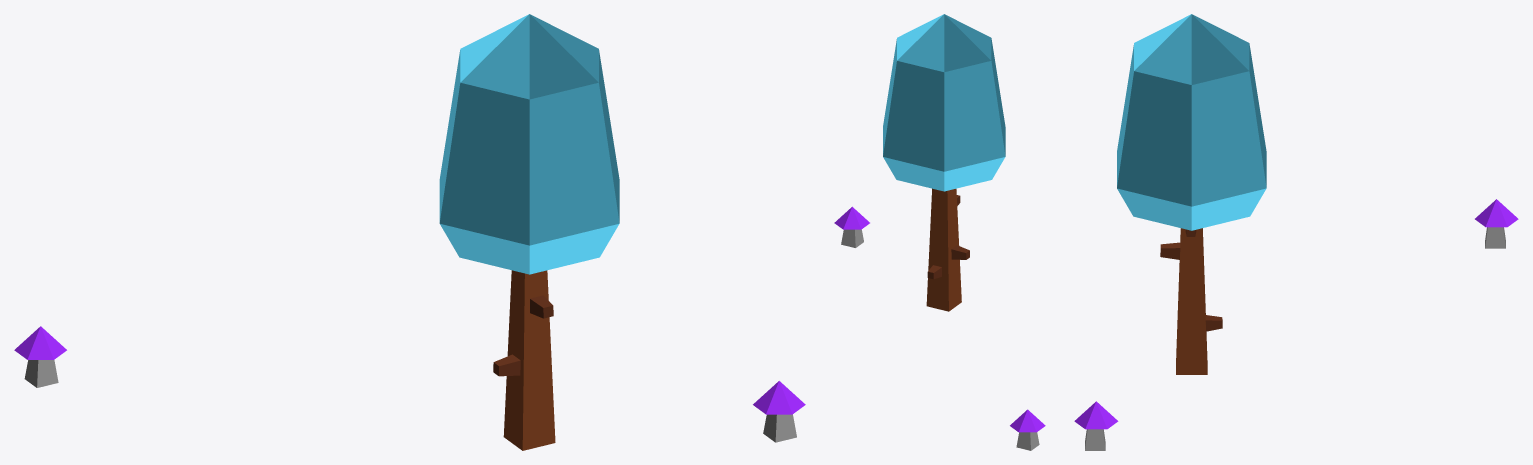
The model's file is Tree3_1.obj.
3 views of the same model, side by side, from view 1: azimuth 30°, elevation 25°; view 2: azimuth 150°, elevation 25°; view 3: azimuth 270°, elevation 25° (orthographic). The views are drawn at different scales.
Visible parts, largest first — view 1: tree_default_dark.001, Mushroom_Red_01.001_Mushroom_Red_01.023, Mushroom_Red_01.013; view 2: tree_default_dark.001, Mushroom_Red_01.013, Mushroom_Red_01.001_Mushroom_Red_01.023; view 3: tree_default_dark.001, Mushroom_Red_01.001_Mushroom_Red_01.023, Mushroom_Red_01.013.
Part boxes in pixels (x1=…): tree_default_dark.001: x1=439, y1=14, x2=619, y2=450; Mushroom_Red_01.001_Mushroom_Red_01.023: x1=14, y1=326, x2=66, y2=387; Mushroom_Red_01.013: x1=753, y1=381, x2=805, y2=442; tree_default_dark.001: x1=883, y1=14, x2=1005, y2=311; Mushroom_Red_01.013: x1=834, y1=206, x2=869, y2=247; Mushroom_Red_01.001_Mushroom_Red_01.023: x1=1010, y1=409, x2=1045, y2=450; tree_default_dark.001: x1=1117, y1=14, x2=1266, y2=374; Mushroom_Red_01.001_Mushroom_Red_01.023: x1=1475, y1=199, x2=1518, y2=248; Mushroom_Red_01.013: x1=1074, y1=401, x2=1118, y2=450.
Size of the model in its own units: 40.85 by 30.92 by 35.15.
Materials: 2 (2 with a texture image).
